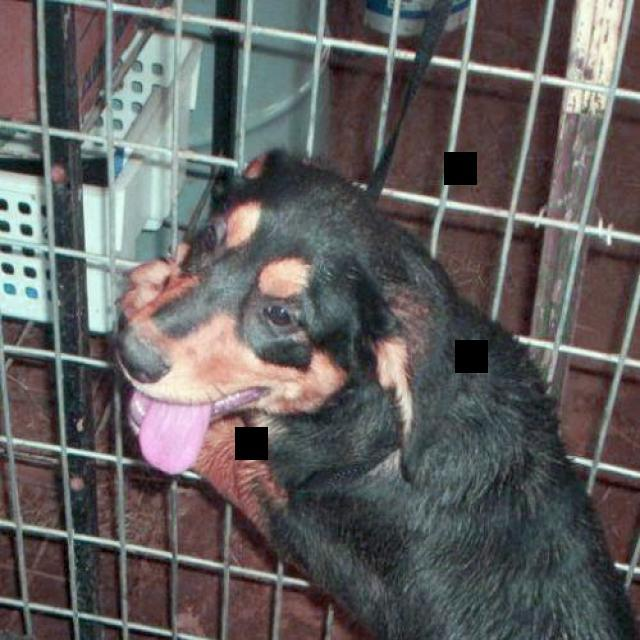adult_dog: (114, 137, 639, 640)
